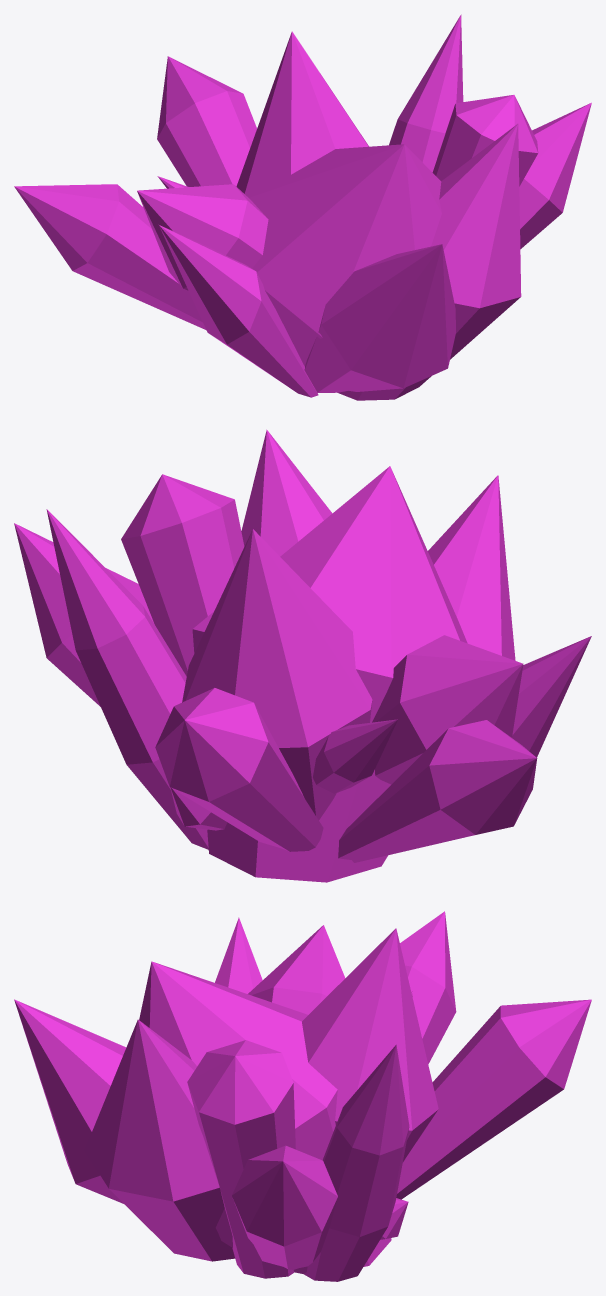
File: Crystal Chunk 3.fbx
The picture shows the model from 3 angles, top to bottom: view 1: azimuth 30°, elevation 25°; view 2: azimuth 150°, elevation 25°; view 3: azimuth 270°, elevation 25°; orthographic projection. The views are drawn at different scales.
Visible parts, largest first — view 1: Crystal Chunk 3; view 2: Crystal Chunk 3; view 3: Crystal Chunk 3.
Part boxes in pixels (bbox=[...]): Crystal Chunk 3: bbox=[14, 14, 591, 400]; Crystal Chunk 3: bbox=[14, 429, 591, 882]; Crystal Chunk 3: bbox=[14, 911, 591, 1281].
Size of the model in its own units: 736 by 402 by 673.
